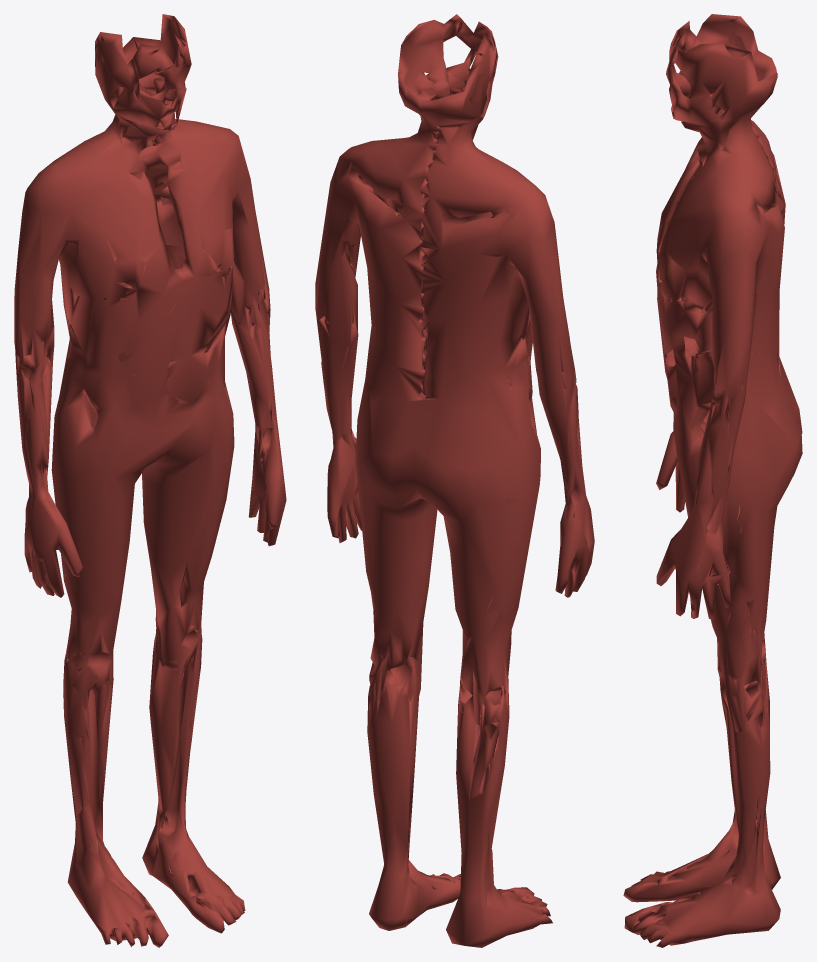
Rendered from pediatric_adolescent_male.muscular.LOD3.glb.
3 views of the same model, side by side, from view 1: azimuth 30°, elevation 25°; view 2: azimuth 150°, elevation 25°; view 3: azimuth 270°, elevation 25° (orthographic).
Visible parts, largest first — view 1: PEDIATRIC.ADOLESCENT.MALE.MUSCULAR.MUSCLE; view 2: PEDIATRIC.ADOLESCENT.MALE.MUSCULAR.MUSCLE; view 3: PEDIATRIC.ADOLESCENT.MALE.MUSCULAR.MUSCLE.
Part boxes in pixels (<box>): PEDIATRIC.ADOLESCENT.MALE.MUSCULAR.MUSCLE: <box>14,14,286,947</box>; PEDIATRIC.ADOLESCENT.MALE.MUSCULAR.MUSCLE: <box>315,14,594,947</box>; PEDIATRIC.ADOLESCENT.MALE.MUSCULAR.MUSCLE: <box>623,14,802,947</box>.
Size of the model in its own units: 0.4874 by 1.64 by 0.2983.
